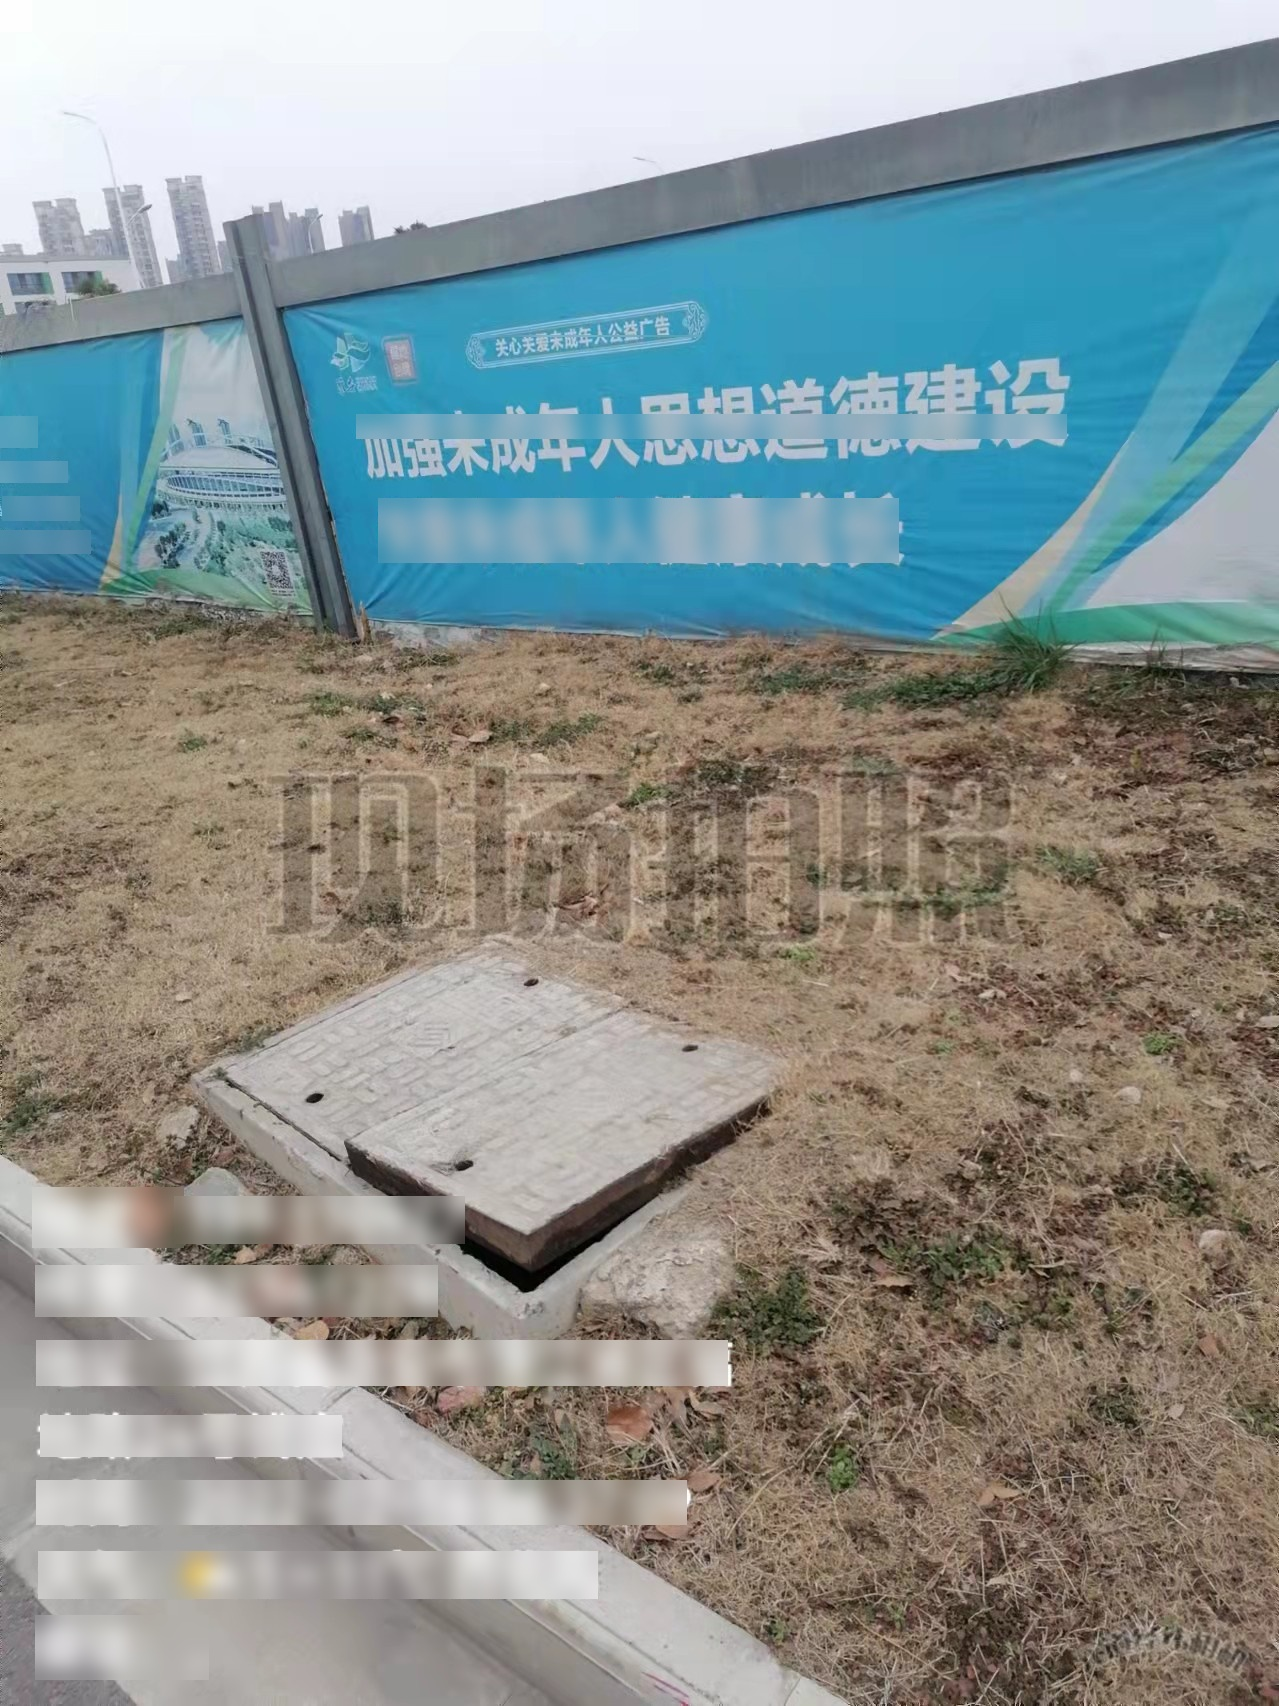uncovered: (185, 934, 802, 1304)
